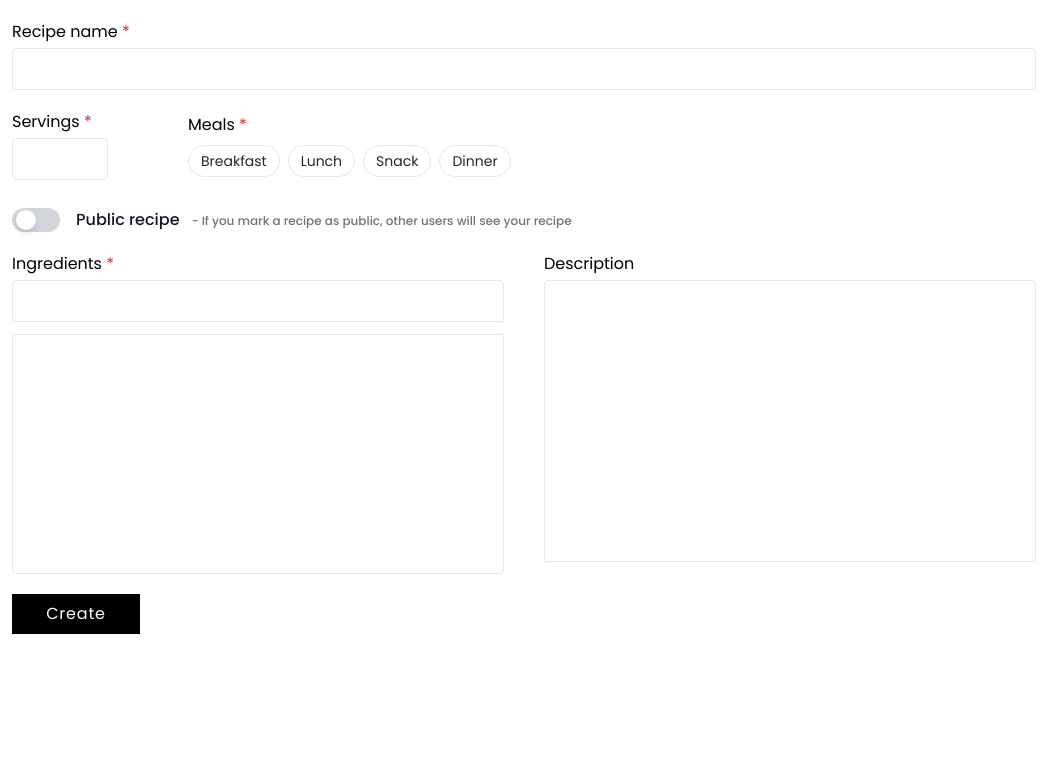
Test: Create Recipe Component - User Flow Tests › Allow ingredient deletion
Type "Flour" into the field labelled "Ingredients *" at (258, 301), box top-left (12, 280), bottom-right (504, 322)
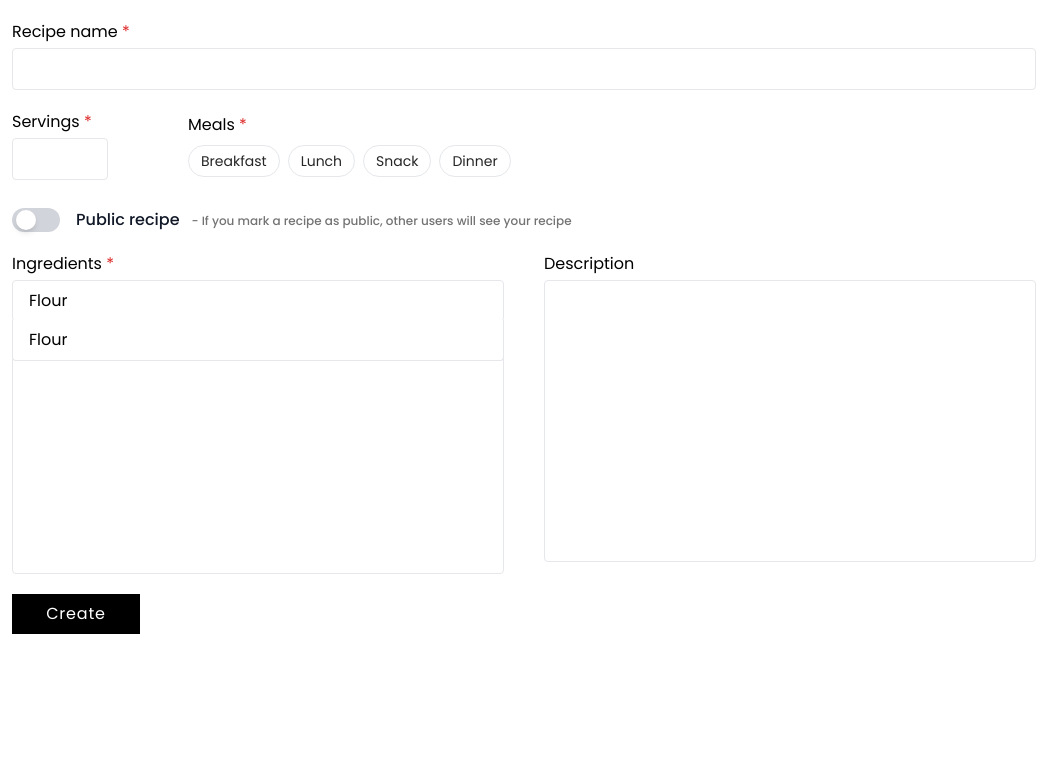
Expected: the list item "Flour" is shown
Click the list item "Flour" at (48, 340), box top-left (29, 328), bottom-right (68, 351)
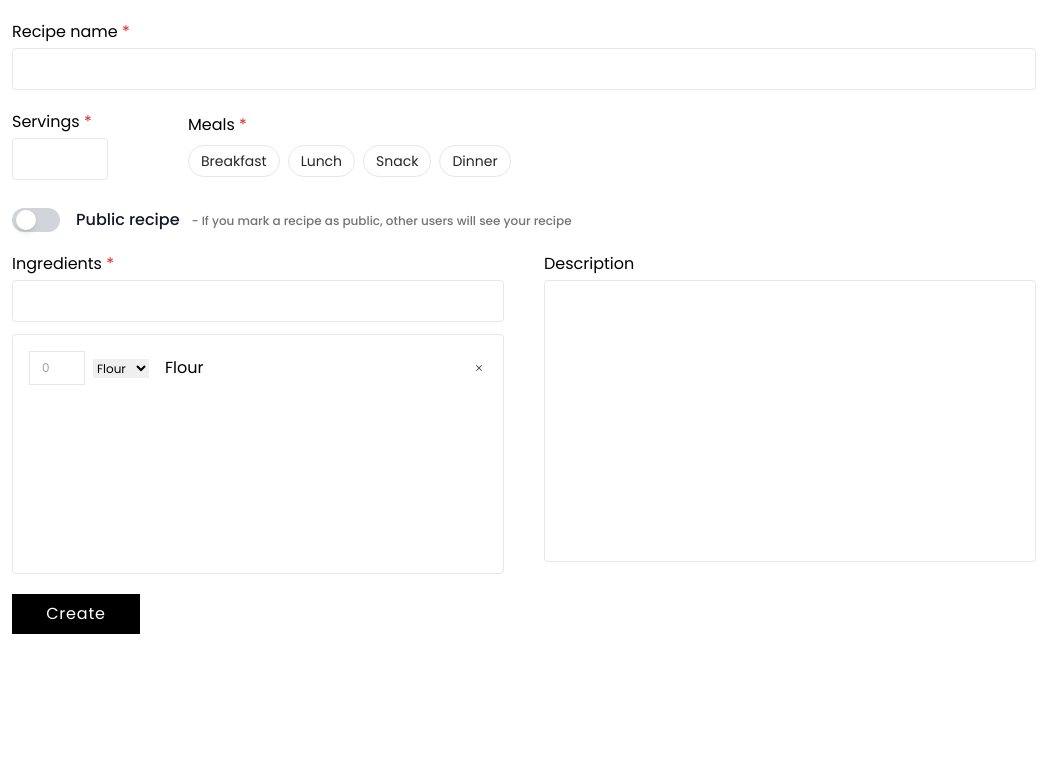
Click the button without text in the row of "Flour" at (479, 368), box top-left (471, 360), bottom-right (487, 376)
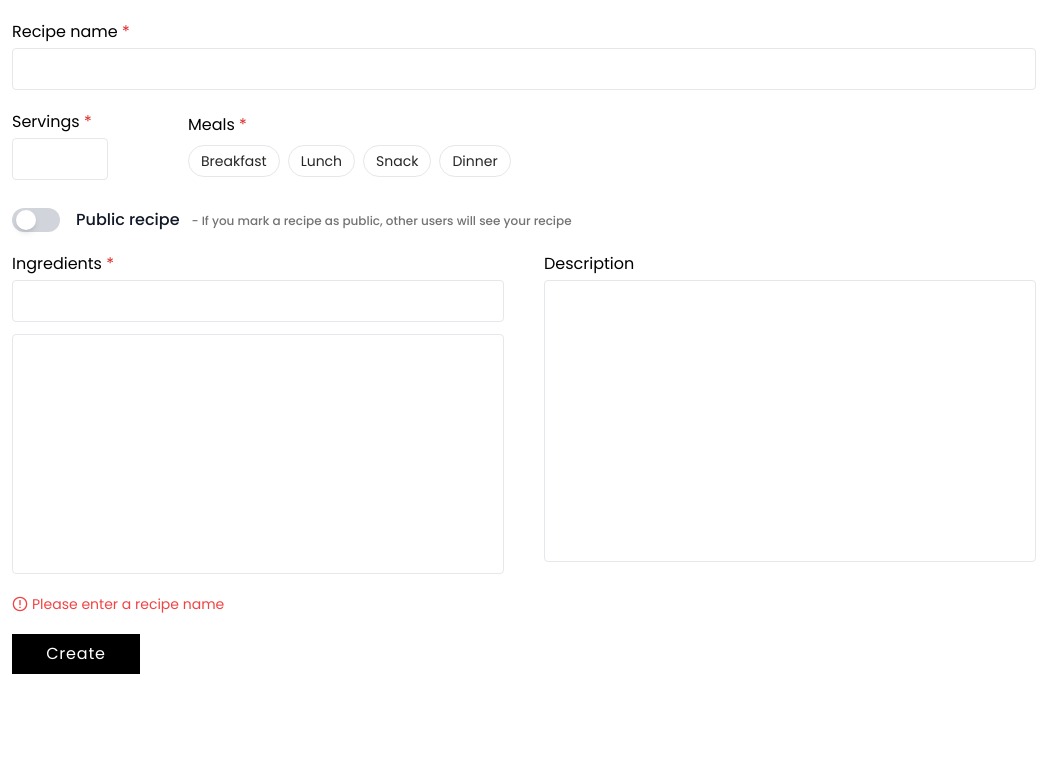
Expected: the text "Flour" is gone
